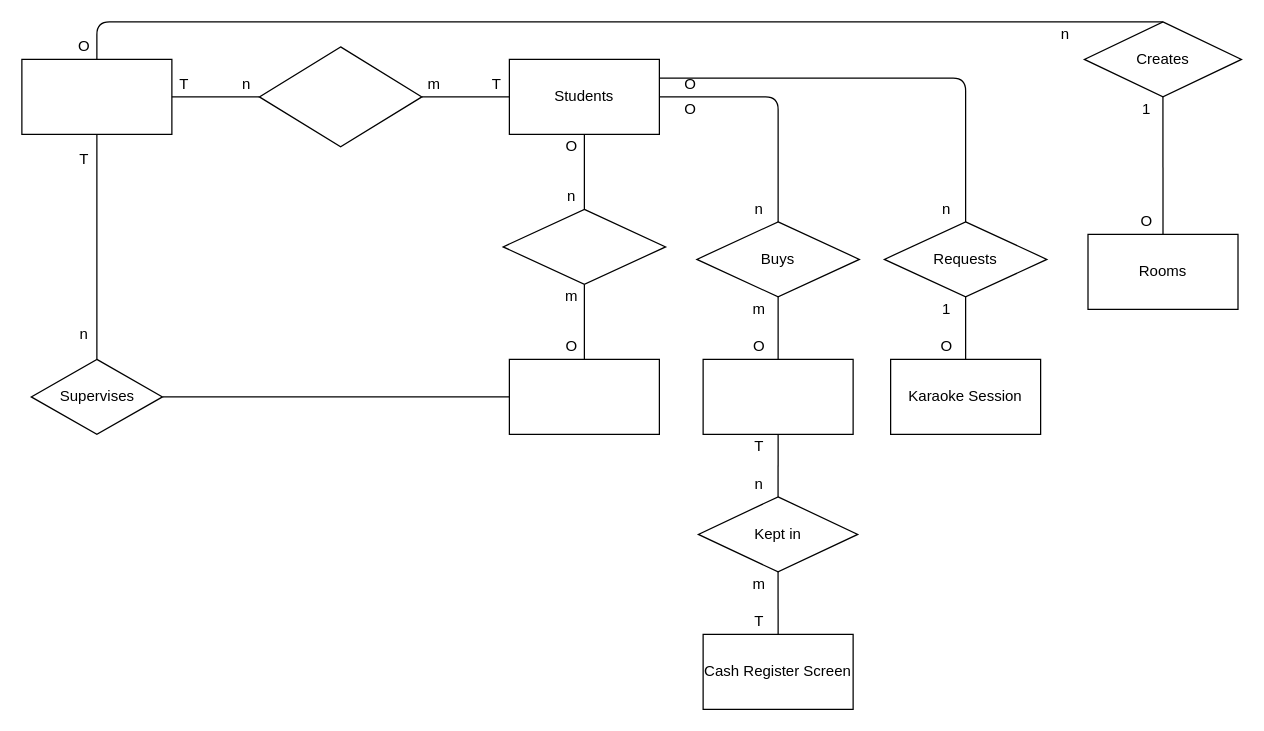
The diagram is 1264 pixels wide and 731 high, and some of its shapes have lost their labels. Here are the shapes that lost their labels. From the top down, the centre of each, then its label:
At point (96, 96): "Teacher".
At point (340, 96): "Administrates".
At point (584, 246): "Participates".
At point (583, 396): "Activities".
At point (777, 396): "Drinks".
